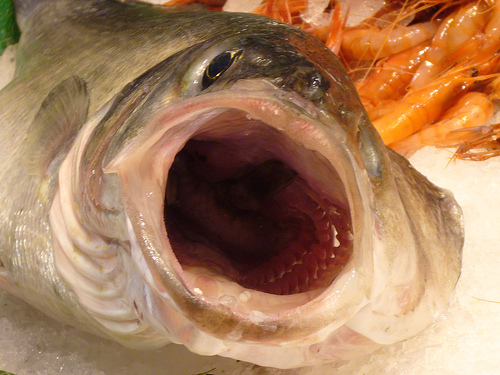fish: (0, 0, 464, 369)
